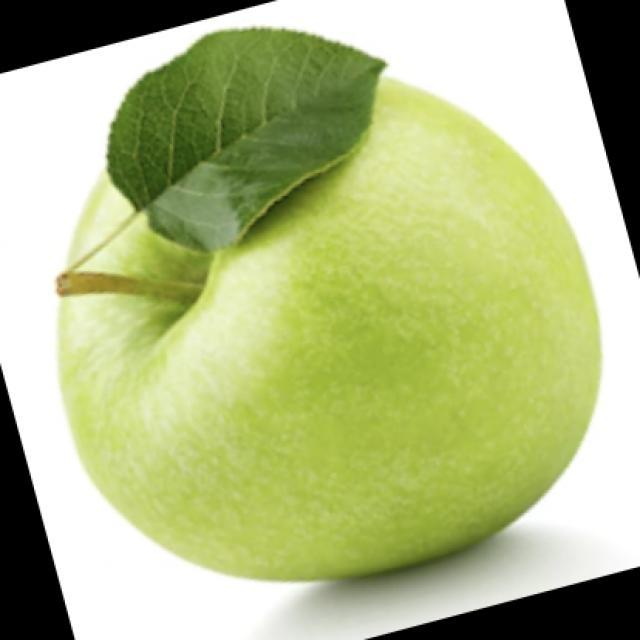Fresh Apple: (70, 84, 603, 588)
